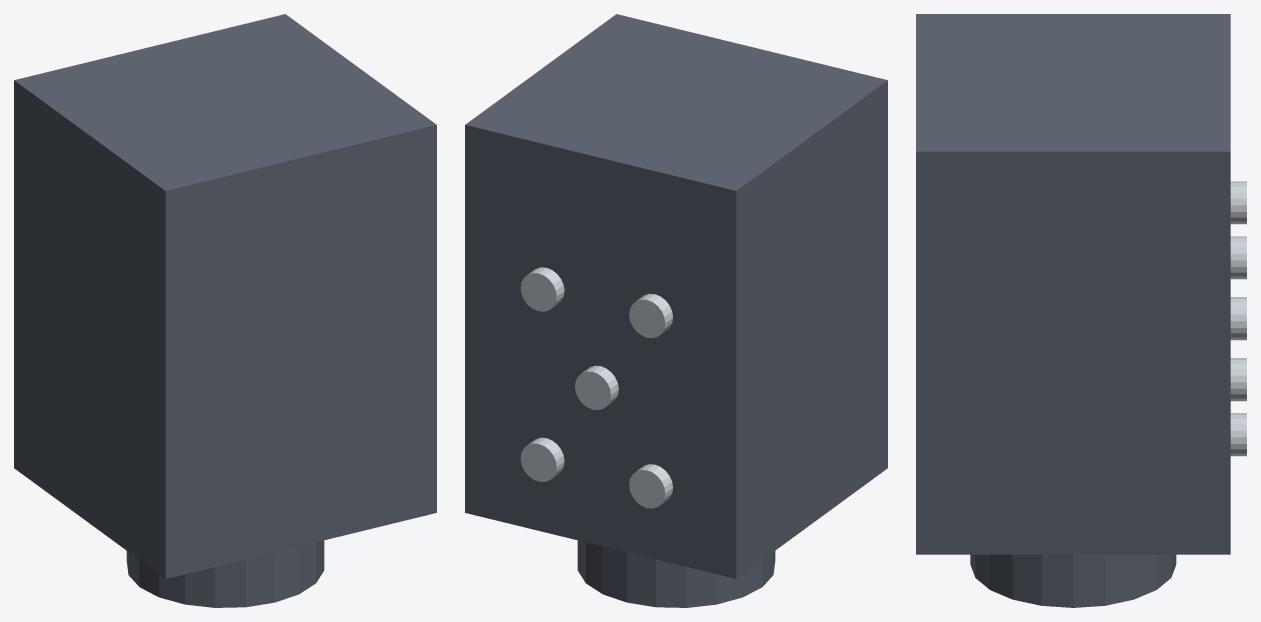
File: wafer-camera-head-2.glb
3 renders of one model, left to right at view 1: azimuth 30°, elevation 25°; view 2: azimuth 150°, elevation 25°; view 3: azimuth 270°, elevation 25°, orthographic. The views are drawn at different scales.
Visible parts, largest first — view 1: black camera housing, black lens adapter; view 2: black camera housing, black lens adapter, silver camera button (×5); view 3: black camera housing, black lens adapter, silver camera button (×5).
Boxes of the visible parts, x1,y1,x2,y2 form: black camera housing: (14,14,436,578); black lens adapter: (126,540,324,607); black camera housing: (465,14,887,578); black lens adapter: (577,540,775,607); silver camera button (×5): (520,267,672,508); black camera housing: (916,14,1230,554); black lens adapter: (970,554,1176,607); silver camera button (×5): (1230,181,1246,456).
Size of the model in its own units: 0.06 by 0.098 by 0.061.
